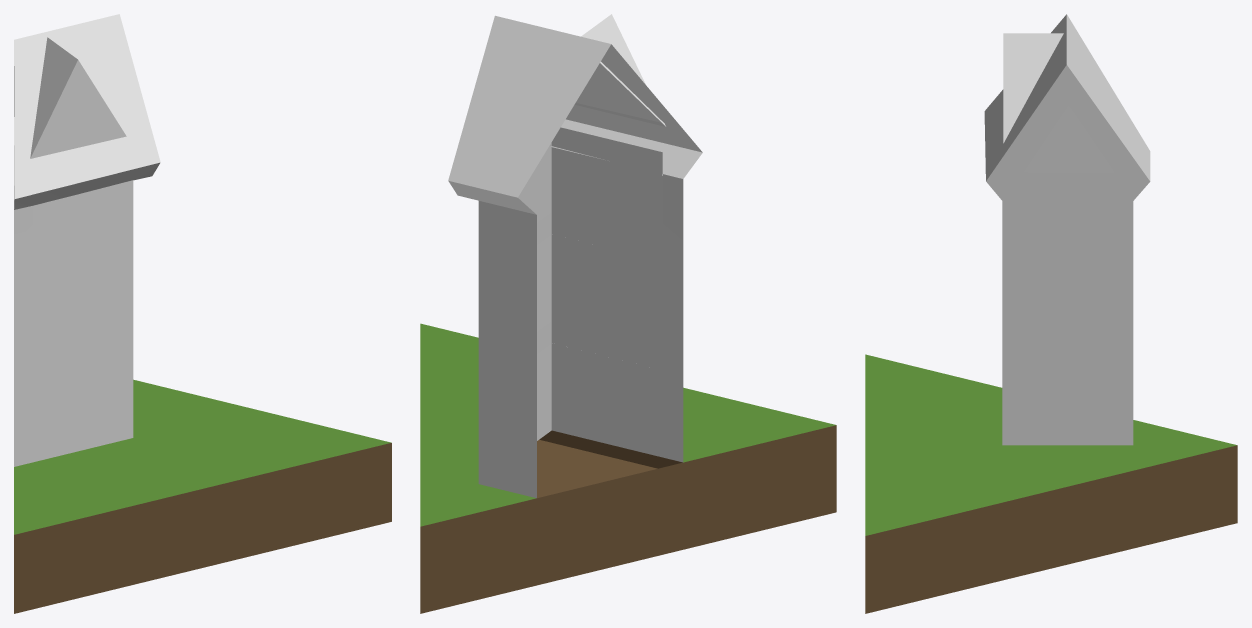
The model's file is Pis_Cantonada_D.fbx.
The picture shows the model from 3 angles, left to right: view 1: azimuth 30°, elevation 25°; view 2: azimuth 150°, elevation 25°; view 3: azimuth 270°, elevation 25°; orthographic projection. The views are drawn at different scales.
Parts seen in each view (by area): view 1: Pis_Cantonada_D, DetallCantonada.004, DetallCantonada.003, DetallTeulada.014, DetallCantonada.005; view 2: Pis_Cantonada_D, DetallCantonada.005, DetallCantonada.004, DetallCantonada.003, DetallTeulada.014; view 3: Pis_Cantonada_D, DetallCantonada.003, DetallCantonada.004, DetallCantonada.005, DetallTeulada.014, DetallAltell_1.001.
Part boxes in pixels (<box>): Pis_Cantonada_D: <box>14,14,391,613</box>; DetallCantonada.004: <box>33,260,133,363</box>; DetallCantonada.003: <box>33,359,133,462</box>; DetallTeulada.014: <box>30,37,126,158</box>; DetallCantonada.005: <box>33,180,133,264</box>; Pis_Cantonada_D: <box>420,15,836,613</box>; DetallCantonada.005: <box>518,127,662,239</box>; DetallCantonada.004: <box>537,234,662,348</box>; DetallCantonada.003: <box>537,343,662,457</box>; DetallTeulada.014: <box>574,14,665,126</box>; Pis_Cantonada_D: <box>865,14,1237,613</box>; DetallCantonada.003: <box>1002,367,1116,445</box>; DetallCantonada.004: <box>1002,270,1116,347</box>; DetallCantonada.005: <box>1002,172,1116,250</box>; DetallTeulada.014: <box>1003,33,1063,143</box>; DetallAltell_1.001: <box>1022,104,1113,172</box>.
Size of the model in its own units: 100 by 120 by 86.6.
